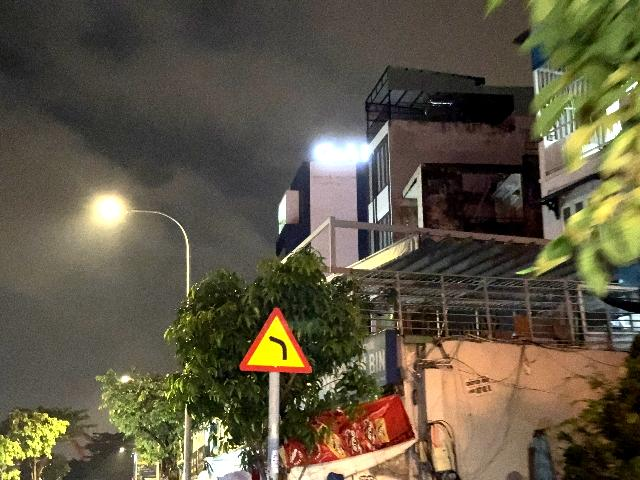cho-ngoat-nguy-hiem-ben-trai: (239, 307, 312, 374)
